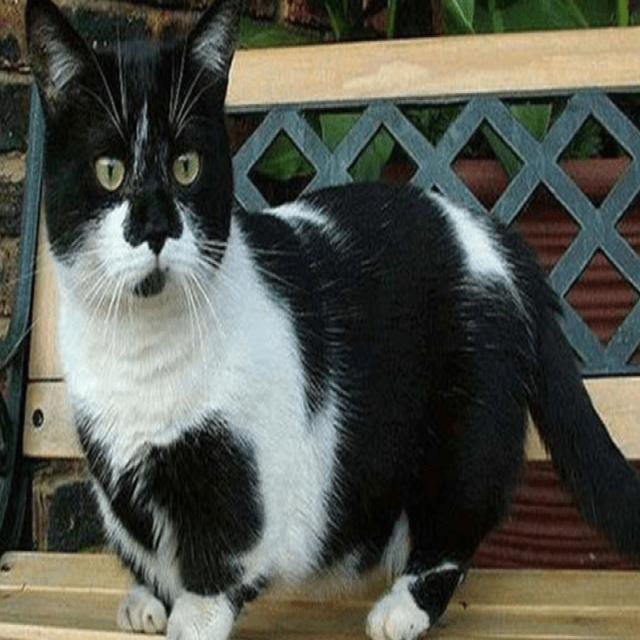Munchkin: (21, 0, 640, 640)
